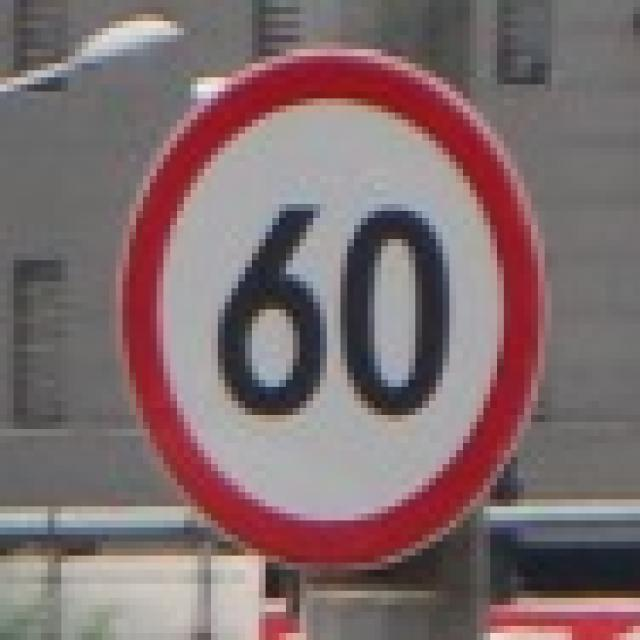Speed Limit -60-: (211, 201, 464, 423)
